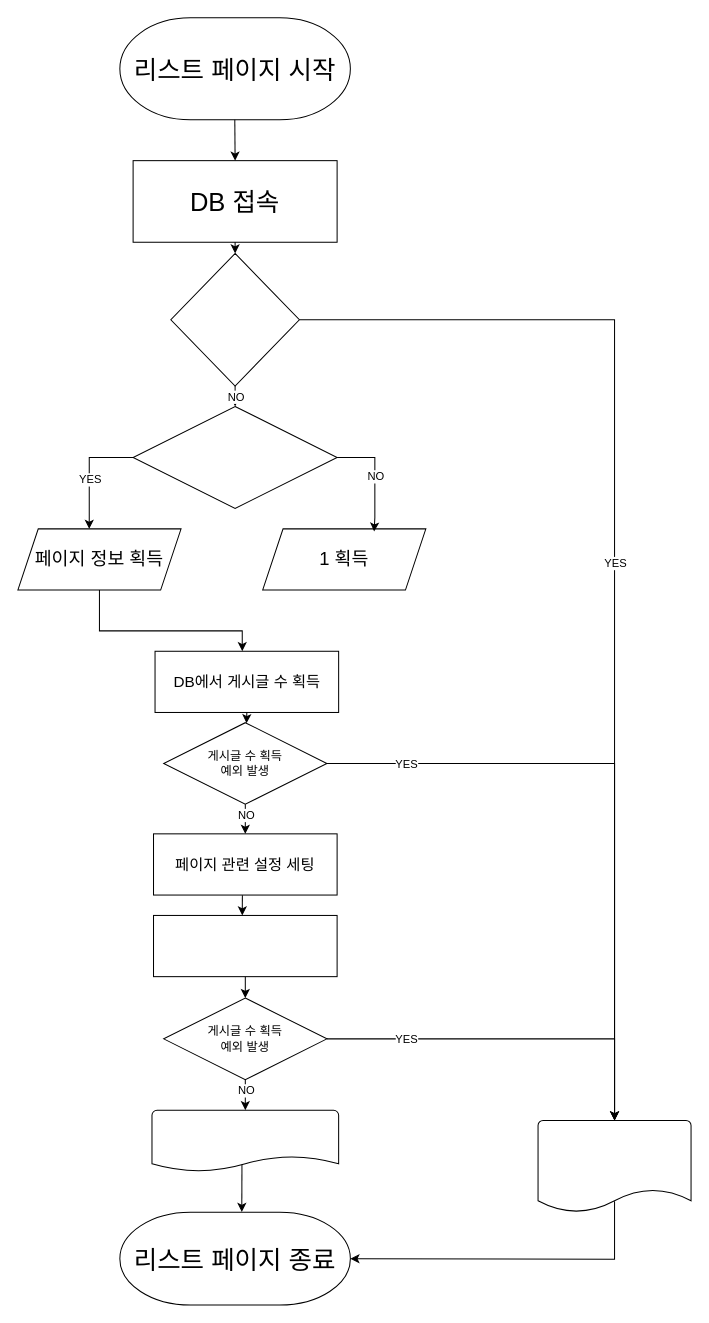
The diagram is 709 pixels wide and 1323 high, and some of its shapes have lost their labels. Each missing label, with the centre of its shape:
DB 접속 예외 발생: (234,319)
DB에서 게시글 조회: (244,945)
page 파라미터 존재: (234,456)
예외 메세지 출력: (614,1165)
화면에 출력: (245,1140)
